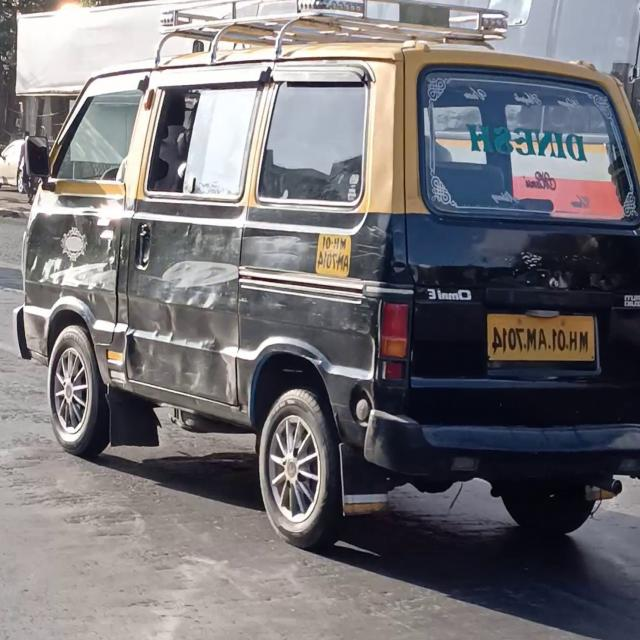license_plate: (483, 308, 601, 369)
